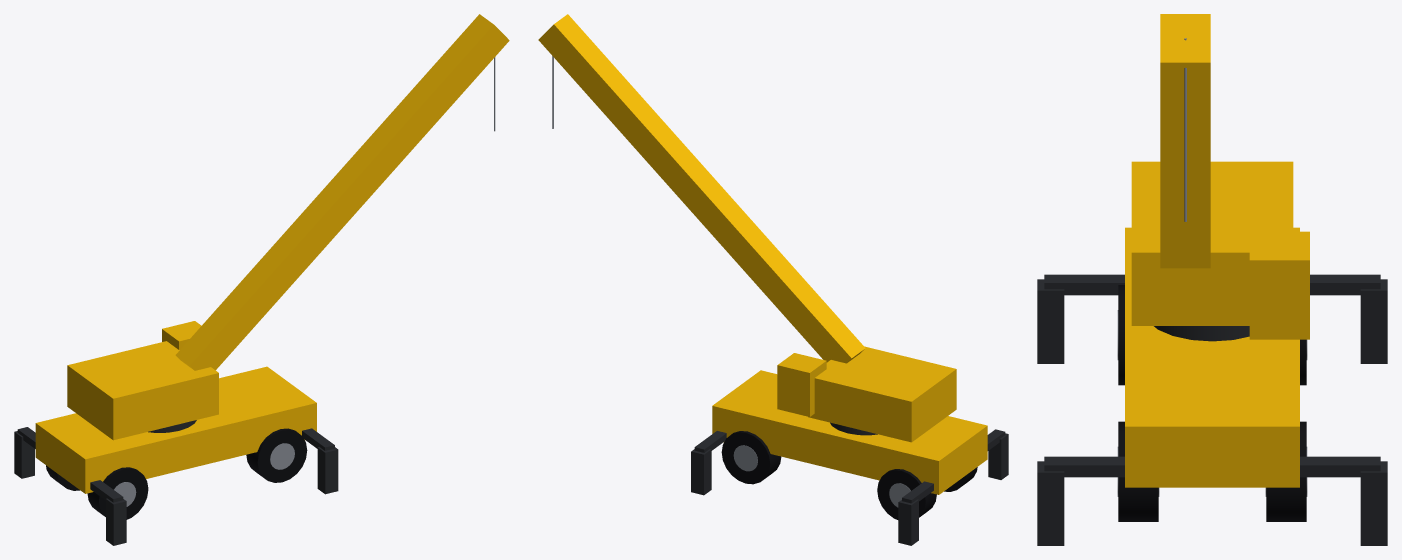
The model's file is tyre-mounted-crane.glb.
3 renders of one model, left to right at view 1: azimuth 30°, elevation 25°; view 2: azimuth 150°, elevation 25°; view 3: azimuth 270°, elevation 25°, orthographic. The views are drawn at different scales.
Bounding box in the file's own units: 13.13 × 11.4 × 5.2.
